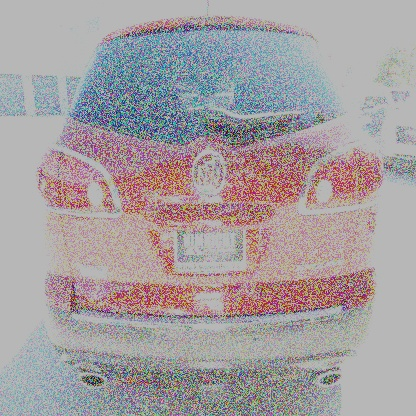Vehicle: (32, 1, 388, 405)
